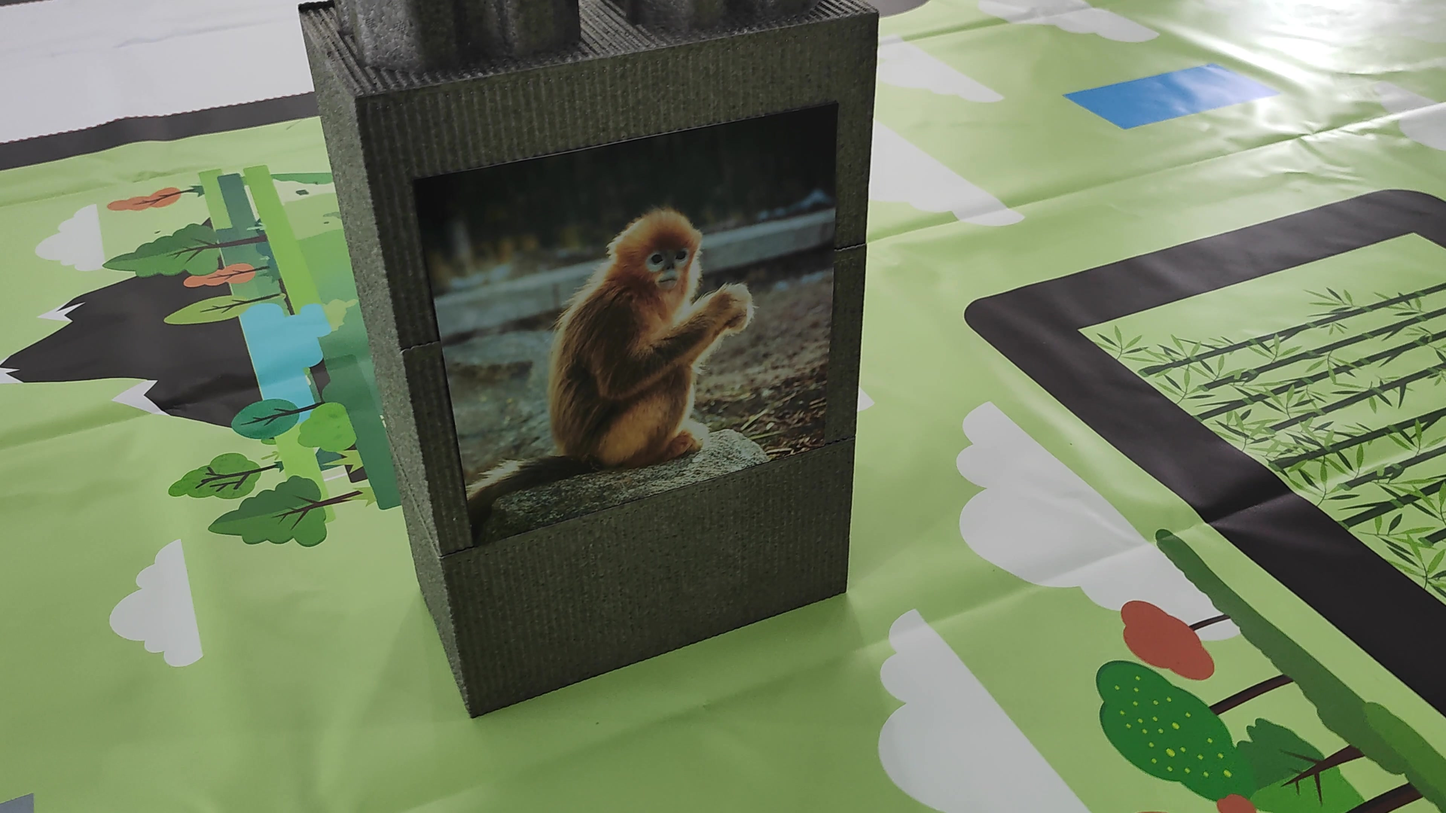monkey: (443, 190, 781, 510)
